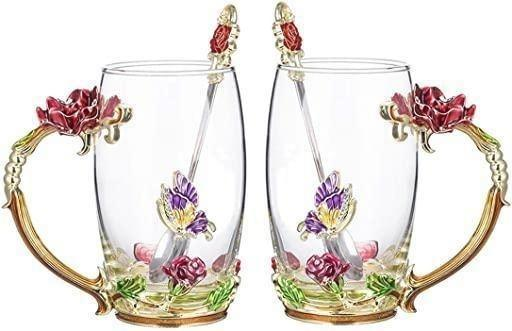glass-mug: (3, 53, 254, 331), (262, 55, 512, 331)
